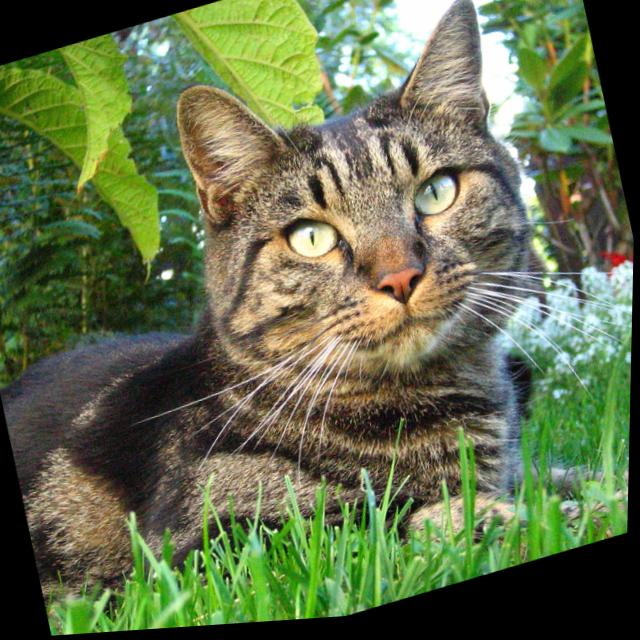animals: (181, 2, 525, 352)
